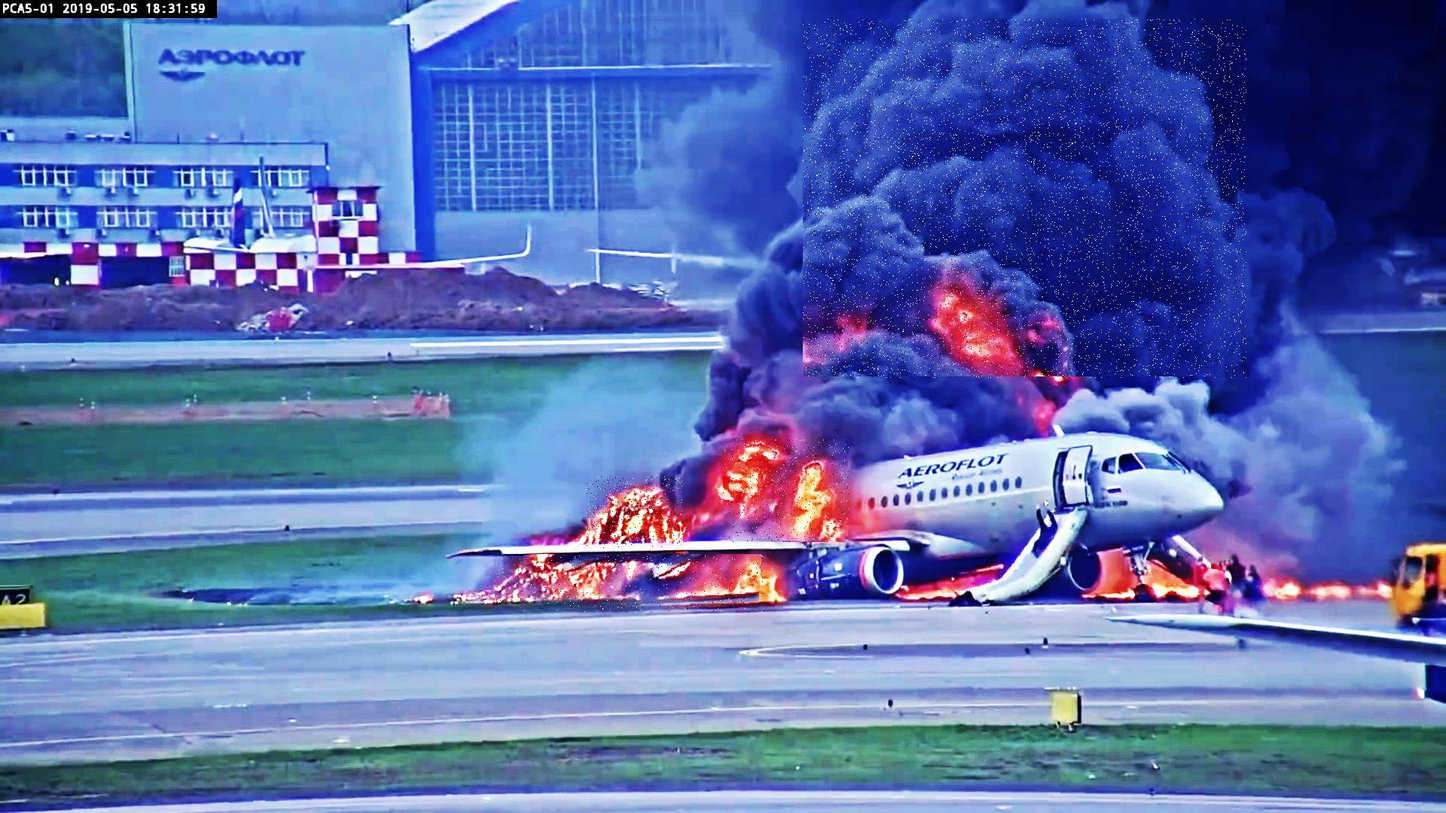fire: (496, 554, 764, 612), (723, 439, 849, 542), (586, 477, 683, 548)
smoke: (803, 19, 1247, 378)
